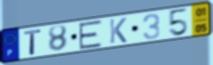3: (142, 13, 161, 40)
5: (167, 7, 189, 37)
8: (47, 25, 69, 54)
E: (78, 19, 104, 51)
K: (108, 17, 128, 45)
T: (23, 28, 44, 56)
